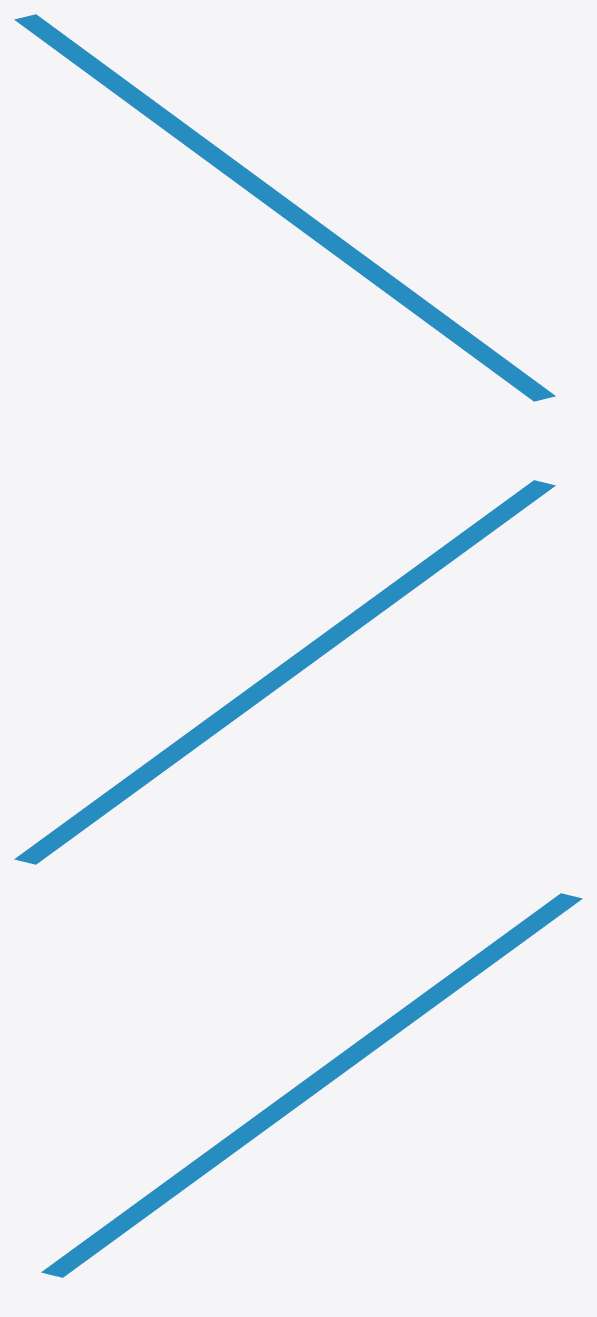
The model's file is guide.glb.
3 renders of one model, top to bottom at view 1: azimuth 30°, elevation 25°; view 2: azimuth 150°, elevation 25°; view 3: azimuth 330°, elevation 25°, orthographic.
Visible parts, largest first — view 1: static; view 2: static; view 3: static.
Part boxes in pixels (left/top/right/bottom): static: left=14, top=14, right=555, bottom=401; static: left=14, top=480, right=555, bottom=864; static: left=41, top=893, right=582, bottom=1277.
Bounding box in the file's own units: 1 × 0 × 14.
